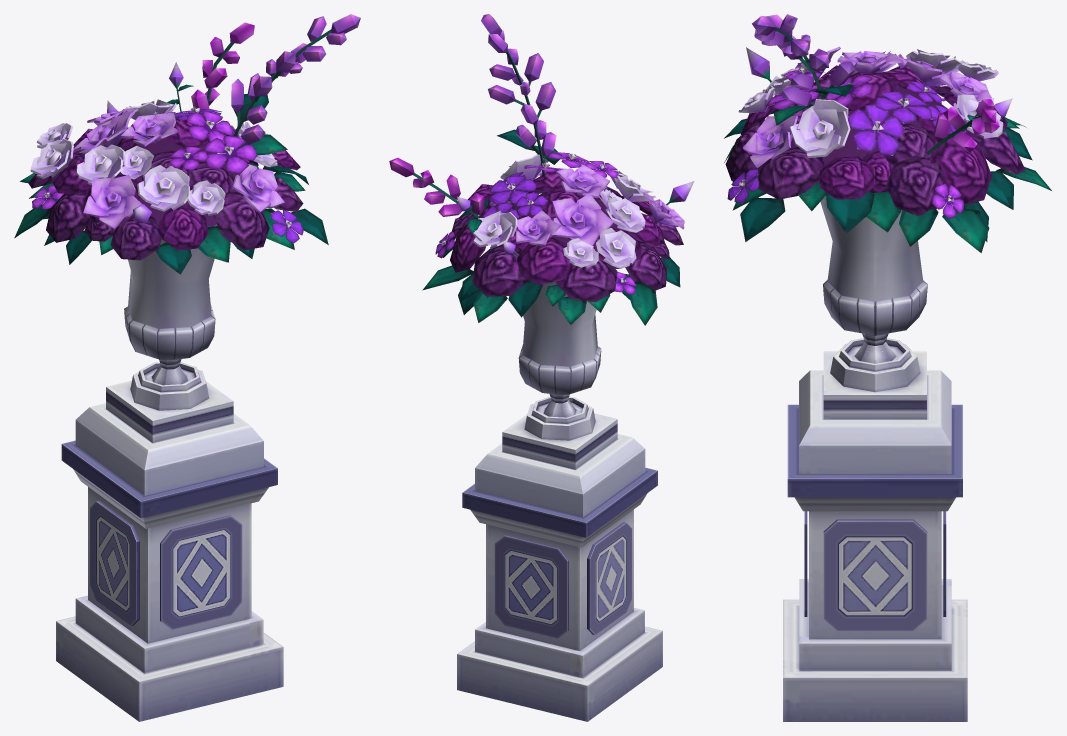
The model's file is my_gehennaparty_01_vase_01.glb.
The picture shows the model from 3 angles, left to right: view 1: azimuth 30°, elevation 25°; view 2: azimuth 150°, elevation 25°; view 3: azimuth 270°, elevation 25°; orthographic projection. The views are drawn at different scales.
Visible parts, largest first — view 1: my_gehennaparty_01_vase_01; view 2: my_gehennaparty_01_vase_01; view 3: my_gehennaparty_01_vase_01.
Part boxes in pixels (left/top/right/bottom): my_gehennaparty_01_vase_01: left=14, top=14, right=360, bottom=721; my_gehennaparty_01_vase_01: left=389, top=14, right=694, bottom=721; my_gehennaparty_01_vase_01: left=724, top=14, right=1051, bottom=721.
Bounding box in the file's own units: 0.0047 × 0.0112 × 0.00455.
1 material, 1 textured.
